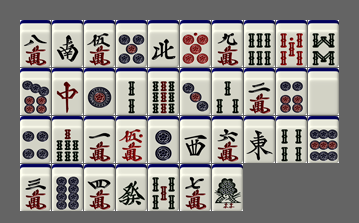0m: (116, 116, 147, 163)
0p: (180, 20, 211, 67)
0s: (276, 20, 307, 67)
1m: (84, 116, 115, 163)
1p: (84, 68, 115, 115)
1s: (212, 164, 243, 211)
1z: (244, 116, 275, 163)
2m: (244, 68, 275, 115)
2p: (148, 116, 179, 163)
2s: (116, 68, 147, 115)
2z: (52, 20, 83, 67)
3m: (20, 164, 51, 211)
3p: (180, 68, 211, 115)
3s: (212, 68, 243, 115)
3z: (180, 116, 211, 163)
4m: (84, 164, 115, 211)
4p: (20, 116, 51, 163)
4s: (276, 116, 307, 163)
4z: (148, 20, 179, 67)
5m: (84, 20, 115, 67)
5p: (116, 20, 147, 67)
5s: (148, 164, 179, 211)
5z: (308, 68, 339, 115)
6m: (212, 116, 243, 163)
6p: (276, 68, 307, 115)
6s: (244, 20, 275, 67)
6z: (116, 164, 147, 211)
7m: (180, 164, 211, 211)
7p: (20, 68, 51, 115)
7s: (52, 116, 83, 163)
7z: (52, 68, 83, 115)
8m: (20, 20, 51, 67)
8p: (52, 164, 83, 211)
8s: (308, 20, 339, 67)
9m: (212, 20, 243, 67)
9p: (308, 116, 339, 163)
9s: (148, 68, 179, 115)
